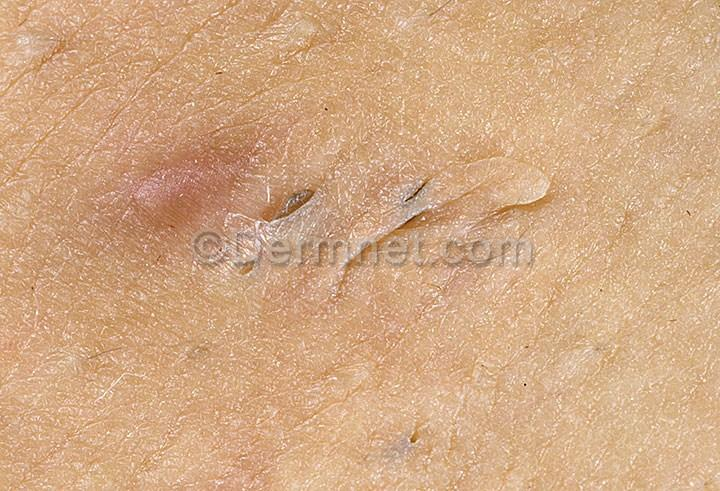Acne: (112, 152, 338, 270)
